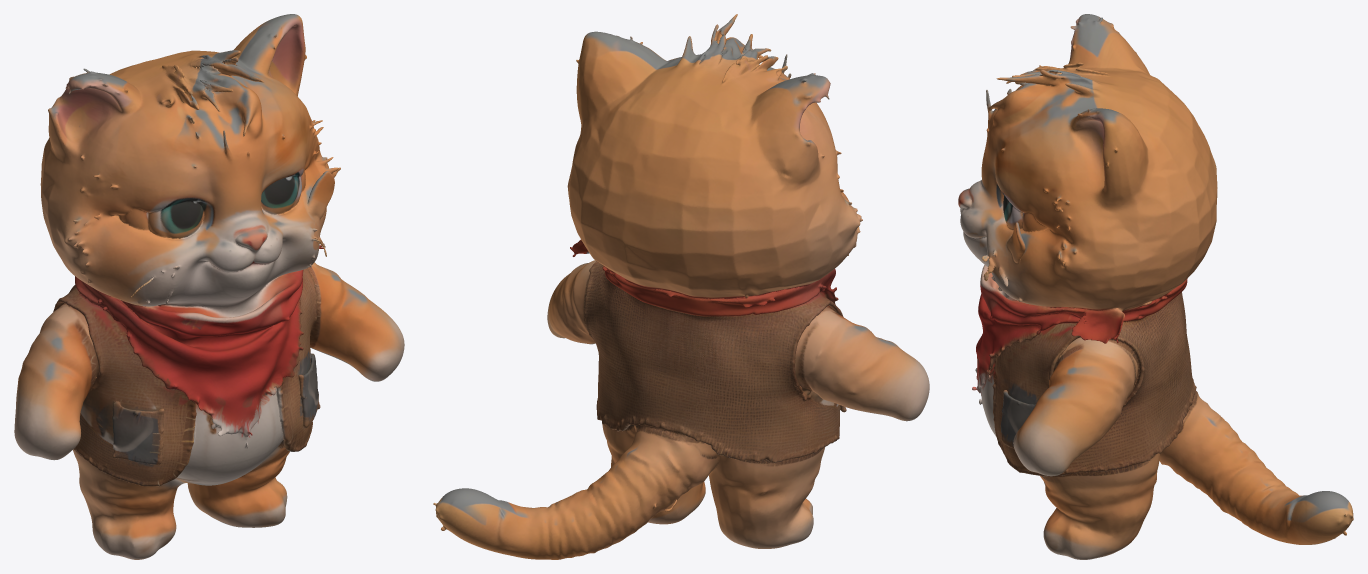
The model's file is tripo-goc.glb.
The picture shows the model from 3 angles, left to right: view 1: azimuth 30°, elevation 25°; view 2: azimuth 150°, elevation 25°; view 3: azimuth 270°, elevation 25°; orthographic projection. The views are drawn at different scales.
Visible parts, largest first — view 1: tripo_node_60fe4677-44bb-4a30-b6b9-80157e1ad409; view 2: tripo_node_60fe4677-44bb-4a30-b6b9-80157e1ad409; view 3: tripo_node_60fe4677-44bb-4a30-b6b9-80157e1ad409.
Part boxes in pixels (x1,y1,x2,y2): tripo_node_60fe4677-44bb-4a30-b6b9-80157e1ad409: (14,14,404,559); tripo_node_60fe4677-44bb-4a30-b6b9-80157e1ad409: (433,14,929,559); tripo_node_60fe4677-44bb-4a30-b6b9-80157e1ad409: (958,14,1353,559).
Bounding box in the file's own units: 0.8184 × 1 × 0.7738.
1 material, 1 textured.
